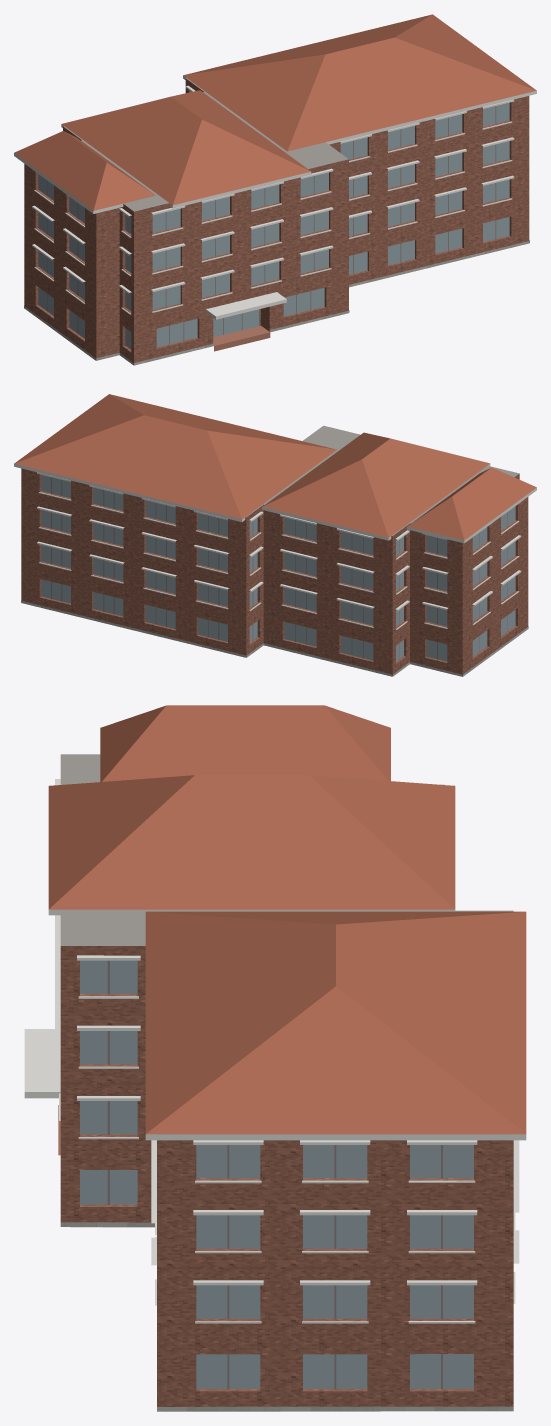
3 views of the same model, one above another, from view 1: azimuth 30°, elevation 25°; view 2: azimuth 150°, elevation 25°; view 3: azimuth 270°, elevation 25° (orthographic). The views are drawn at different scales.
Parts seen in each view (by area): view 1: osm136187757__wall, osm136187757__roofAccent, osm136187757__glass, osm136187757__trim, osm136187757__roof, osm136187757__base, osm136187757__frame, osm136187757__canopy, osm136187757__entranceThreshold_0; view 2: osm136187757__wall, osm136187757__roofAccent, osm136187757__glass, osm136187757__trim, osm136187757__frame, osm136187757__base, osm136187757__roof; view 3: osm136187757__roofAccent, osm136187757__wall, osm136187757__glass, osm136187757__trim, osm136187757__roof, osm136187757__base, osm136187757__canopy, osm136187757__frame.
Boxes of the visible parts, x1=… form: osm136187757__wall: x1=24, y1=78, x2=529, y2=364; osm136187757__roofAccent: x1=14, y1=14, x2=536, y2=210; osm136187757__glass: x1=38, y1=102, x2=509, y2=349; osm136187757__trim: x1=14, y1=75, x2=536, y2=314; osm136187757__roof: x1=63, y1=78, x2=348, y2=211; osm136187757__base: x1=24, y1=240, x2=529, y2=365; osm136187757__frame: x1=47, y1=106, x2=496, y2=344; osm136187757__canopy: x1=206, y1=292, x2=286, y2=319; osm136187757__entranceThreshold_0: x1=213, y1=326, x2=270, y2=351; osm136187757__wall: x1=21, y1=468, x2=528, y2=676; osm136187757__roofAccent: x1=14, y1=394, x2=536, y2=540; osm136187757__glass: x1=41, y1=475, x2=515, y2=661; osm136187757__trim: x1=14, y1=464, x2=536, y2=629; osm136187757__frame: x1=51, y1=477, x2=507, y2=659; osm136187757__base: x1=21, y1=600, x2=528, y2=676; osm136187757__roof: x1=246, y1=425, x2=519, y2=535; osm136187757__roofAccent: x1=48, y1=705, x2=526, y2=1134; osm136187757__wall: x1=60, y1=946, x2=513, y2=1406; osm136187757__glass: x1=80, y1=960, x2=473, y2=1388; osm136187757__trim: x1=48, y1=779, x2=526, y2=1323; osm136187757__roof: x1=60, y1=754, x2=513, y2=1411; osm136187757__base: x1=60, y1=1222, x2=513, y2=1411; osm136187757__canopy: x1=24, y1=1029, x2=60, y2=1098; osm136187757__frame: x1=107, y1=960, x2=442, y2=1389.
Size of the model in its own units: 37.25 by 15.5 by 19.44.
10 materials, 2 textured.
